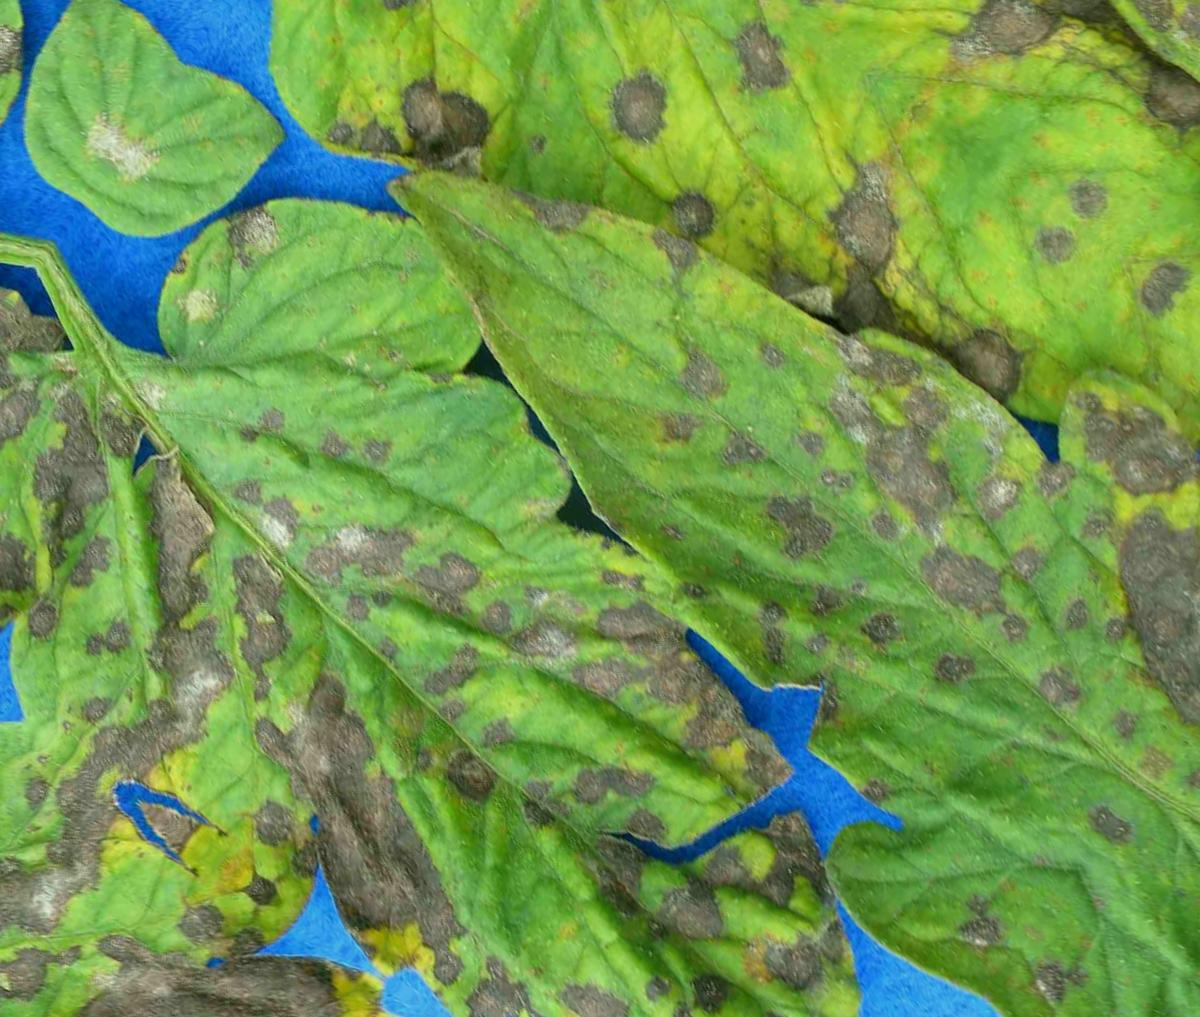Tomato Septoria leaf spot: (0, 51, 1120, 1017), (159, 0, 1200, 1017), (202, 0, 1200, 771)
